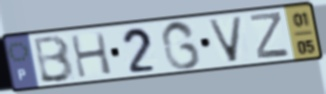2: (120, 23, 163, 78)
B: (33, 33, 77, 85)
G: (160, 19, 204, 72)
H: (68, 30, 115, 80)
V: (205, 15, 245, 64)
Z: (248, 9, 292, 60)
